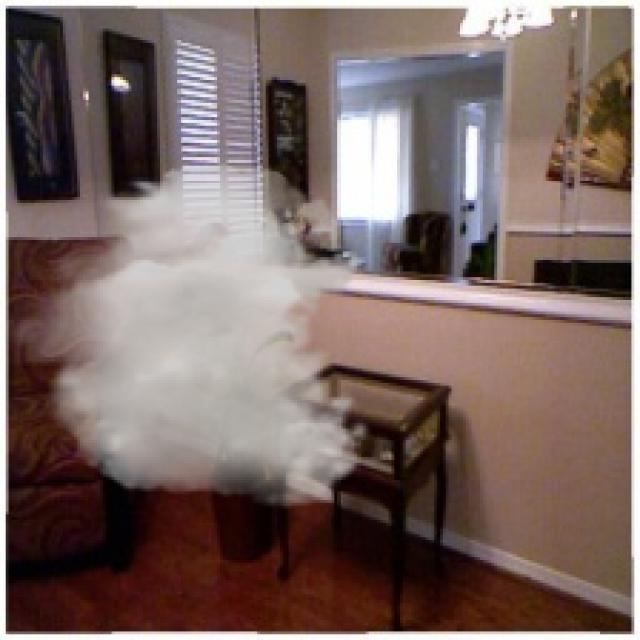Smoke: (0, 162, 375, 509)
